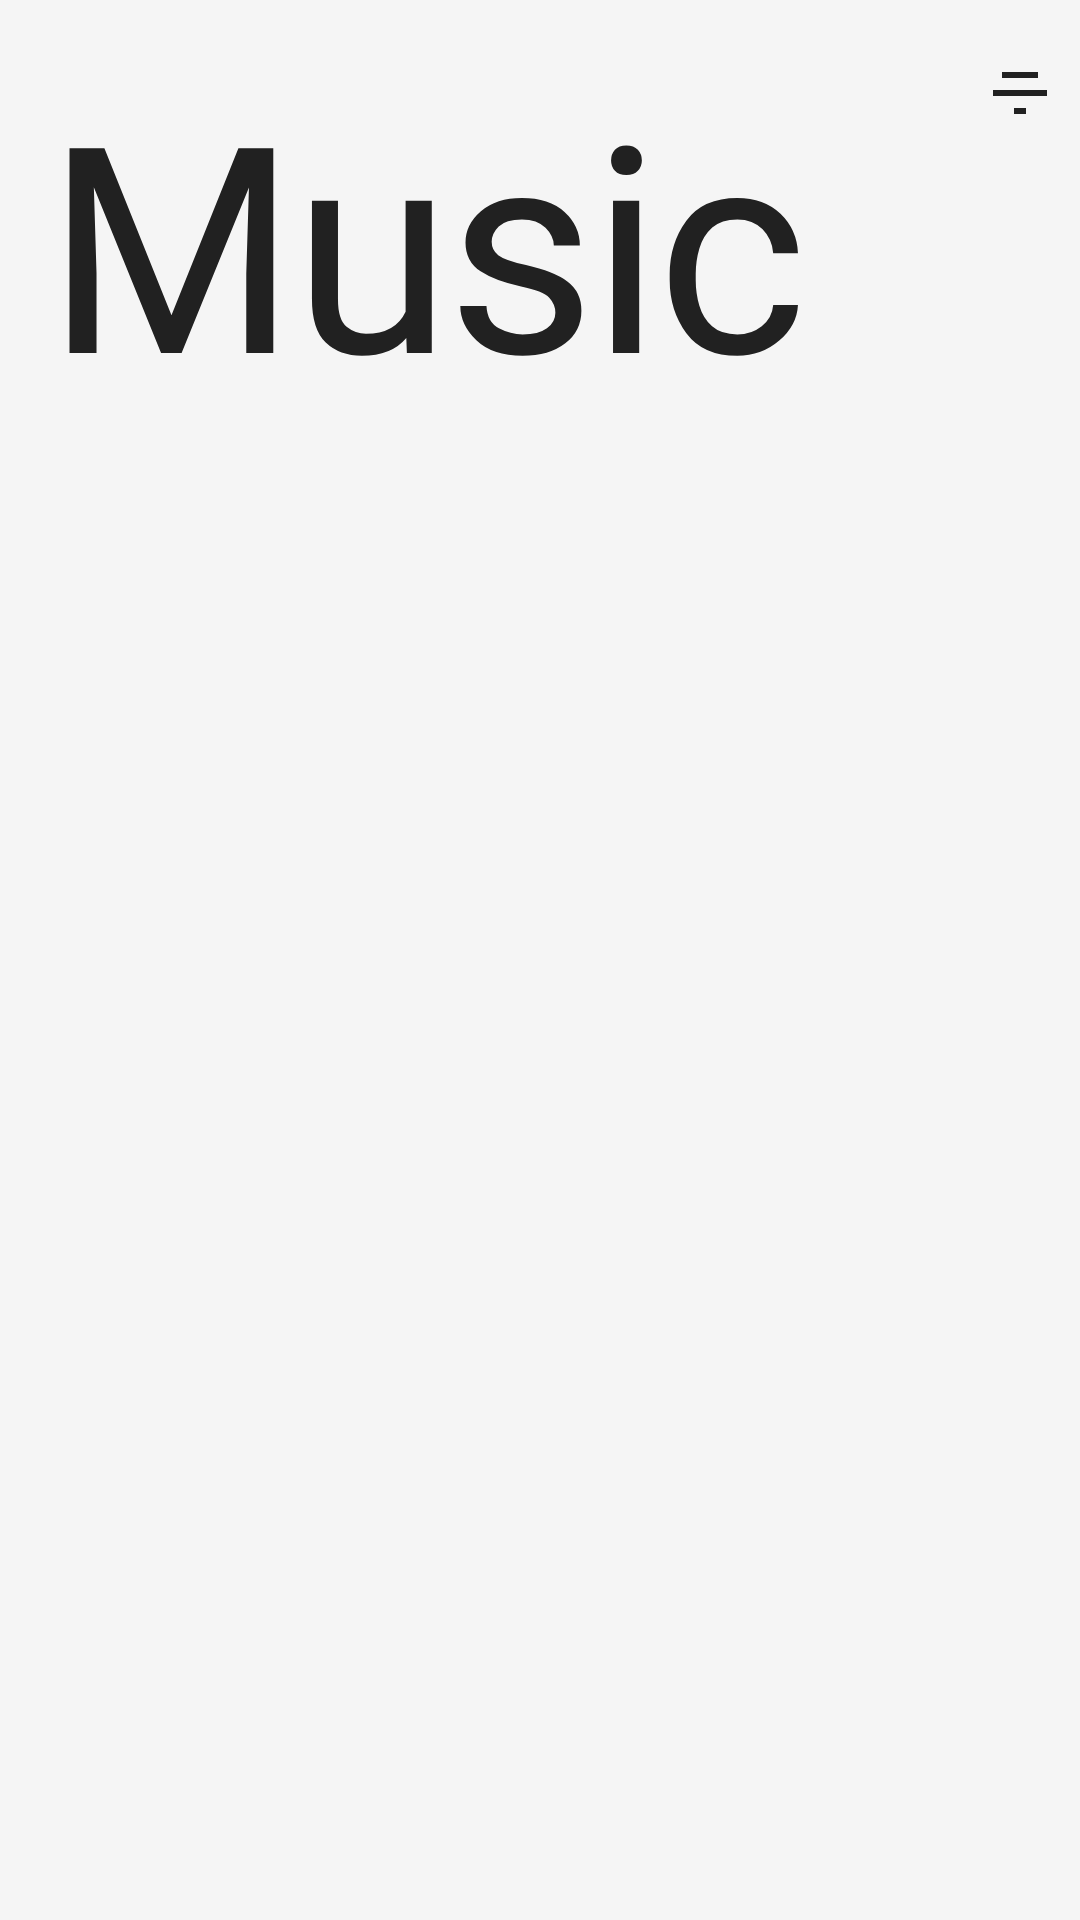

Icons on this 1080px x 1920px Android screen, each with the point to tap as point (x, y):
Sort: point (1020, 93)
